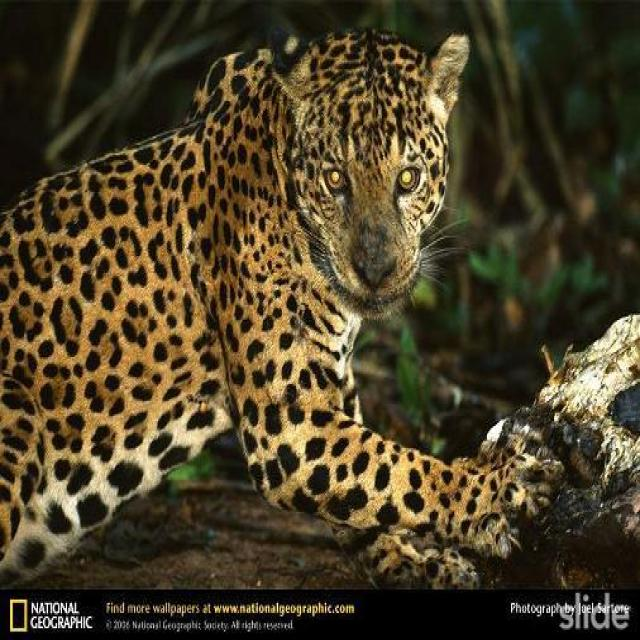Leopard: (0, 24, 563, 586)
